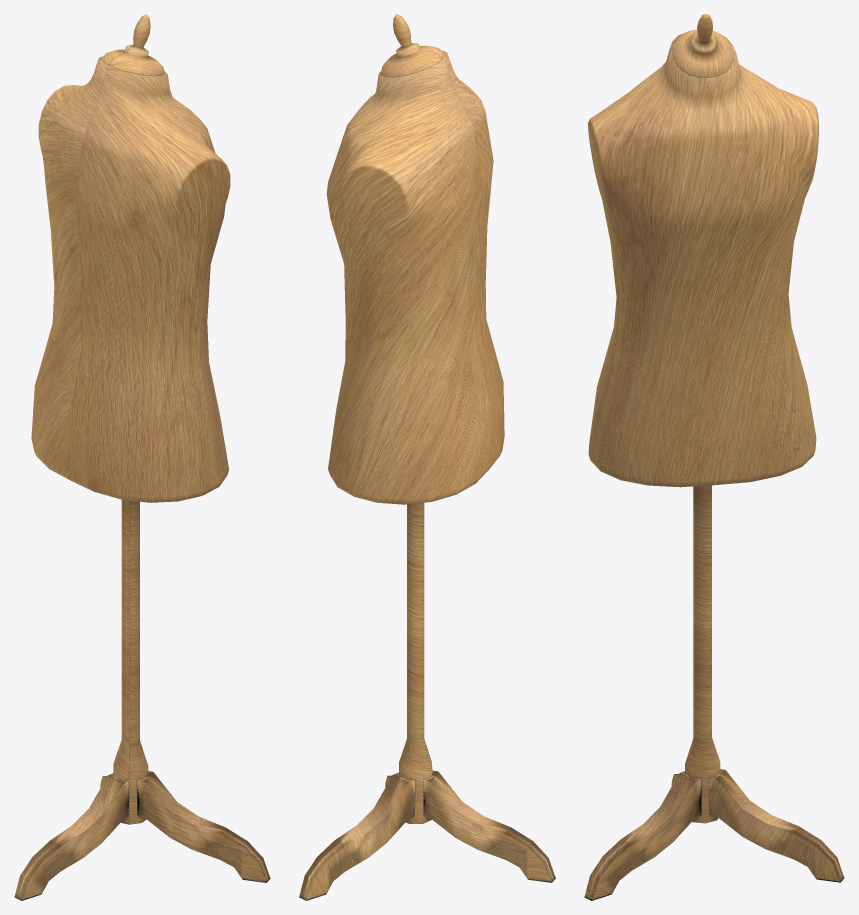
File: Manocanh (1.6, -0.9, 0.3).glb
3 renders of one model, left to right at view 1: azimuth 30°, elevation 25°; view 2: azimuth 150°, elevation 25°; view 3: azimuth 270°, elevation 25°, orthographic.
Visible parts, largest first — view 1: Dress.011; view 2: Dress.011; view 3: Dress.011.
Boxes of the visible parts, x1,y1,x2,y2 form: Dress.011: (14, 14, 270, 900); Dress.011: (299, 14, 555, 900); Dress.011: (584, 14, 844, 900).
Bounding box in the file's own units: 0.4869 × 1.85 × 0.511.
Materials: 1 (1 with a texture image).
